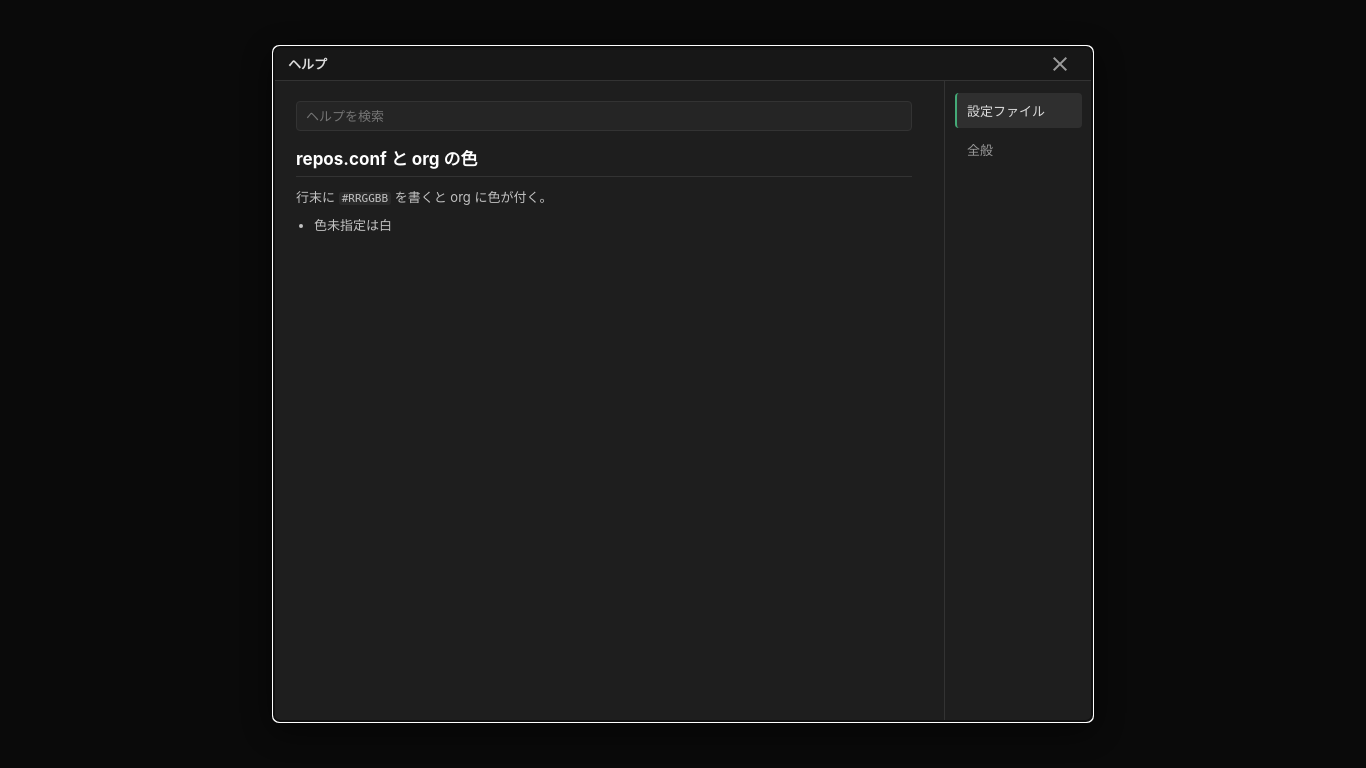
Test: HelpModal › search surfaces cross-category matches regardless of the active tab
Type "ctrl-n" into the field labelled "ヘルプを検索" at (604,116), box [296,101,912,131]
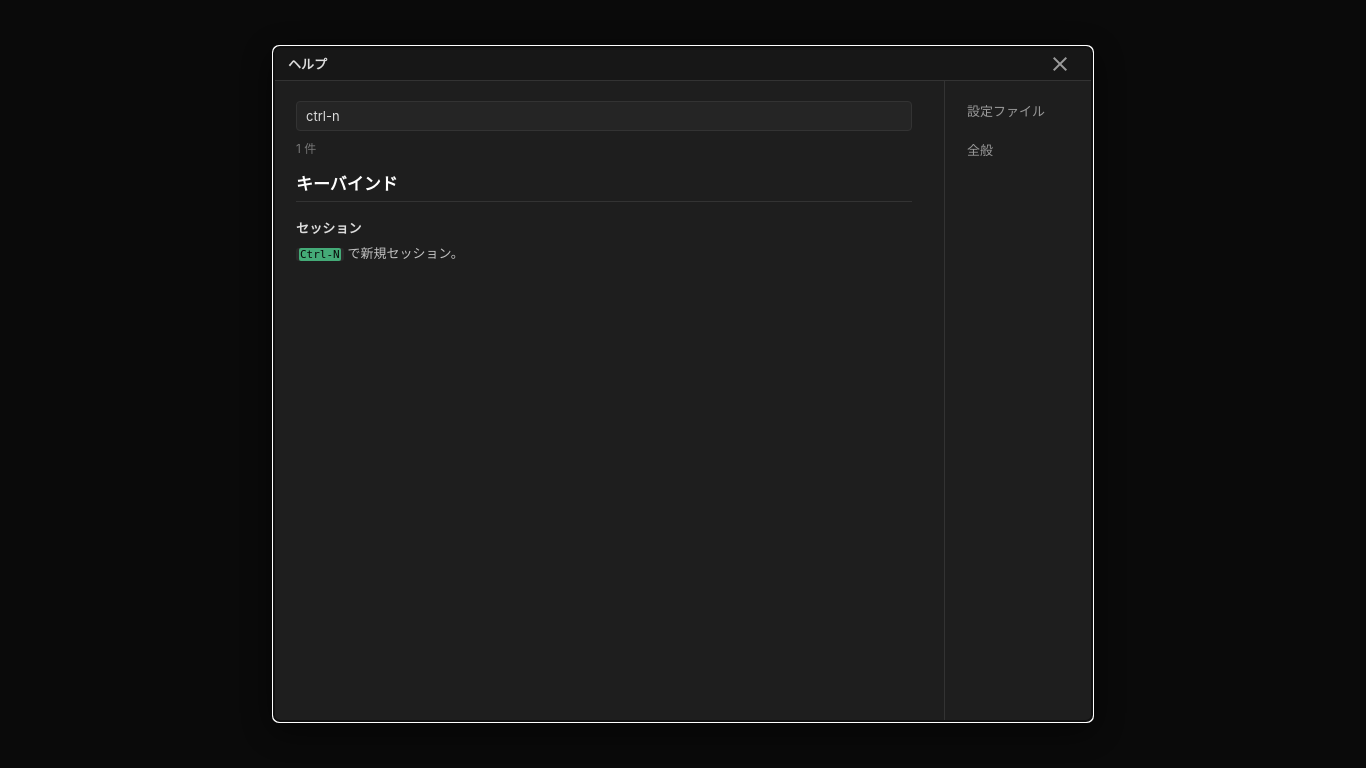
Expected: the heading "キーバインド" is shown, [296,170,912,202]
Expected: the text "で新規セッション。" is shown, [344,245,464,261]
Expected: the heading "repos.conf と org の色" is gone
